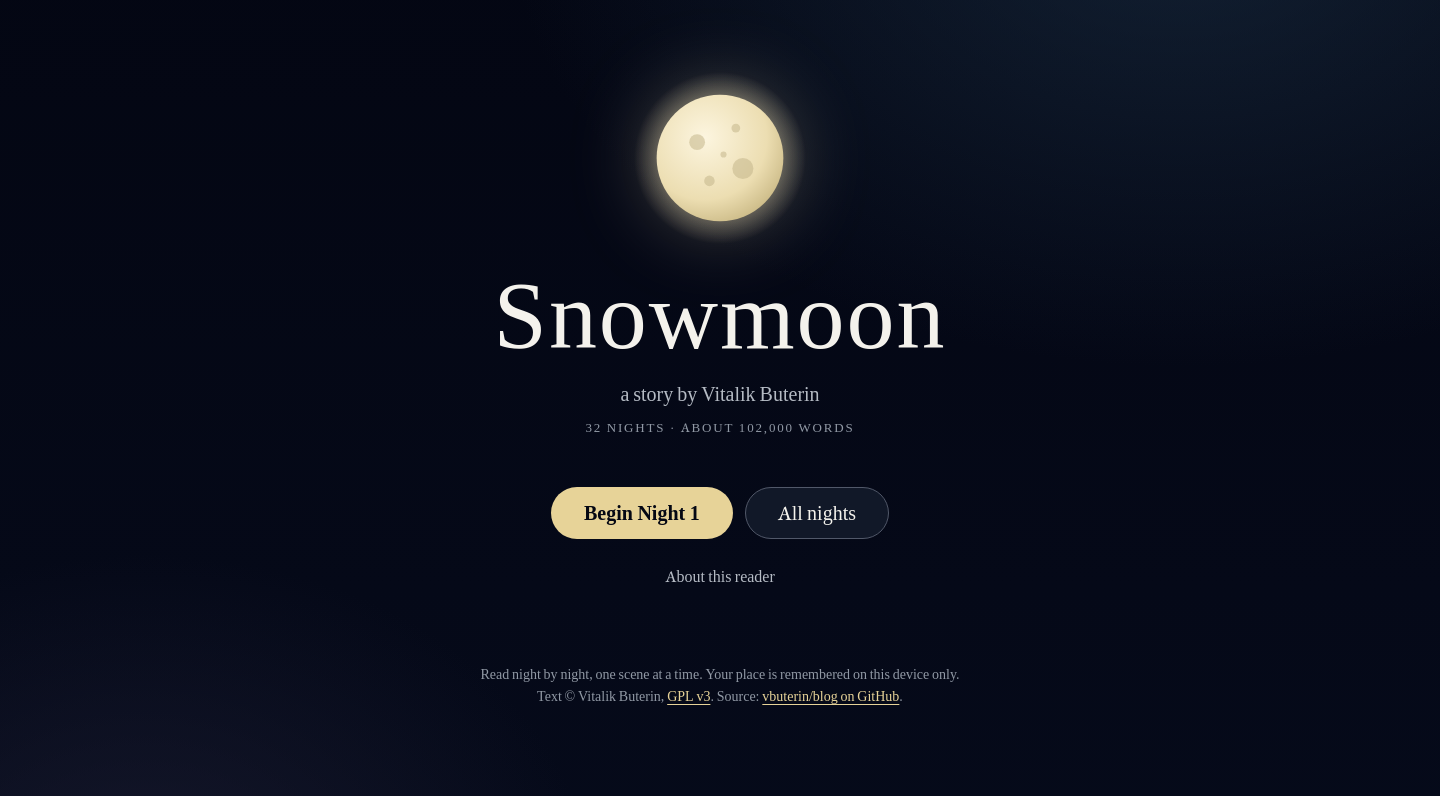
Test: reader flow › shows the title screen and starts Night 1 from it
Expected: the heading "Snowmoon" is shown, [494,270,946,366]
Click the link "Begin Night 1" at (642, 513), box [551,487,733,539]
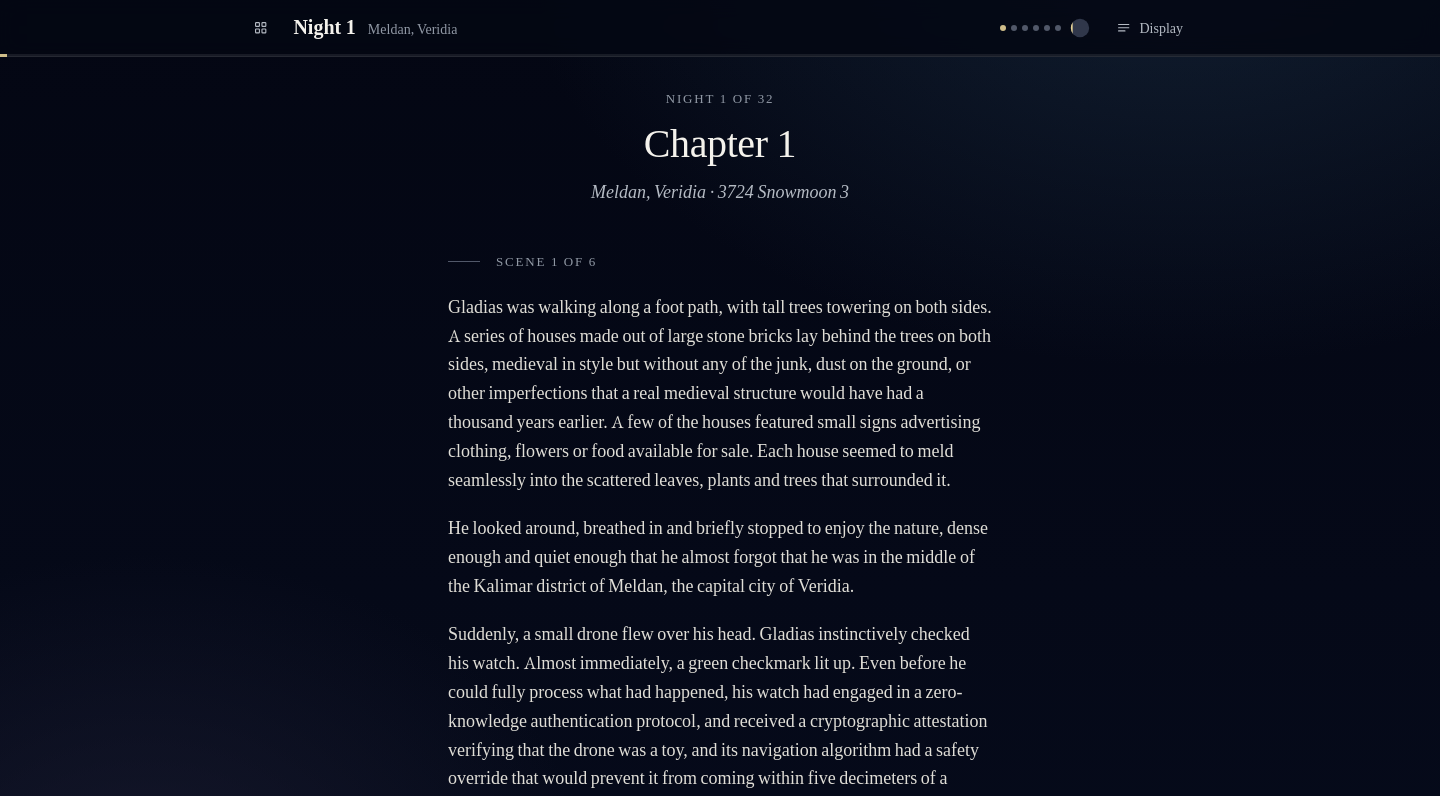
Expected: the heading "Scene 1 of 6" is shown, [496,253,597,270]
Expected: the text "Gladias was walking along a foot path" is shown, [448,295,992,491]
